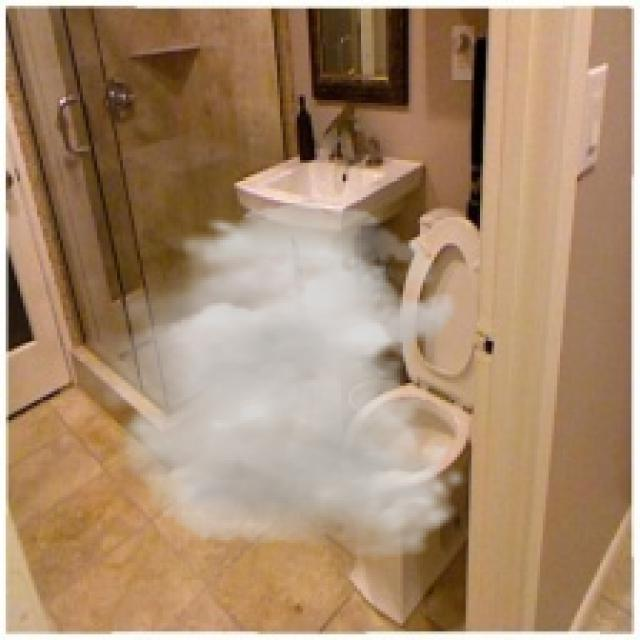Smoke: (66, 203, 468, 560)
